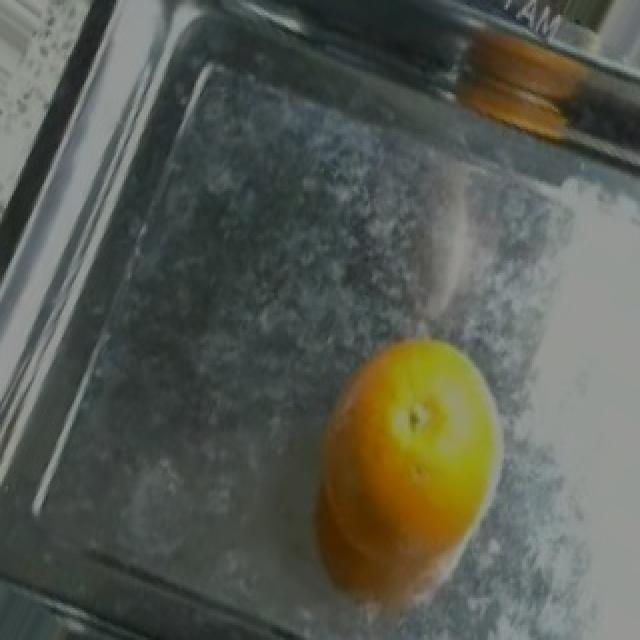Fruit: (292, 310, 524, 638)
